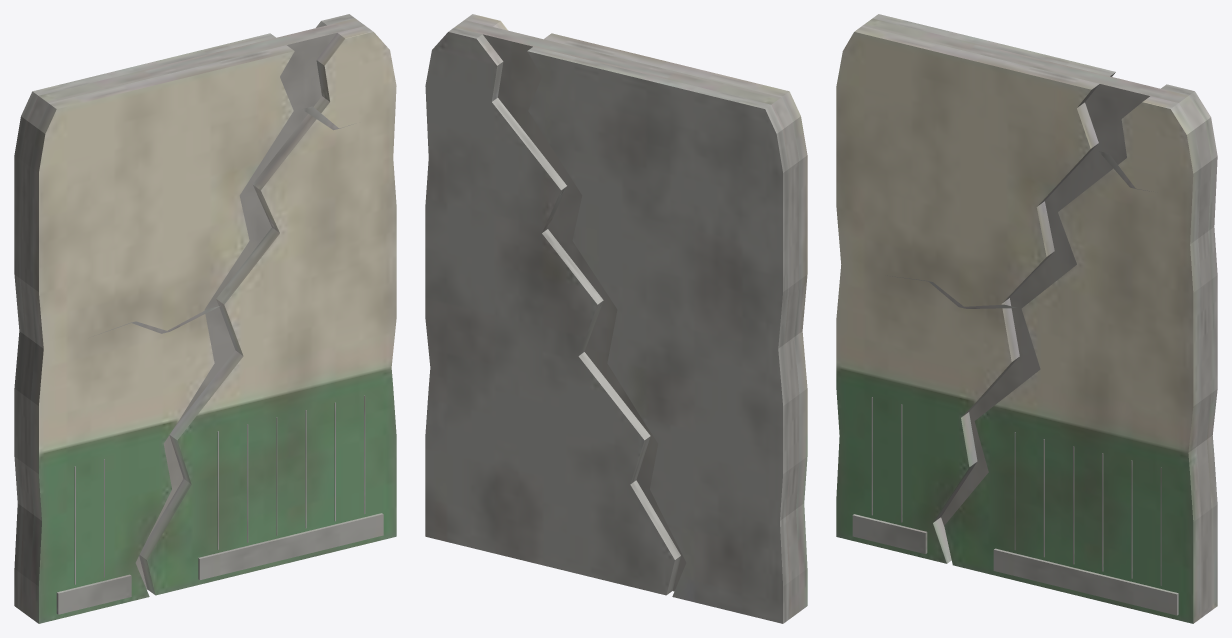
Rendered from BR16_cracked_wall_panel_v1.glb.
3 renders of one model, left to right at view 1: azimuth 30°, elevation 25°; view 2: azimuth 150°, elevation 25°; view 3: azimuth 330°, elevation 25°, orthographic.
Visible parts, largest first — view 1: Recessed masonry core; view 2: Recessed masonry core; view 3: Recessed masonry core.
Part boxes in pixels (bbox=[...]): Recessed masonry core: bbox=[14, 14, 396, 623]; Recessed masonry core: bbox=[425, 14, 807, 623]; Recessed masonry core: bbox=[836, 14, 1217, 623].
Size of the model in its own units: 2.2 by 3 by 0.277.
Materials: 4 (4 with a texture image).
